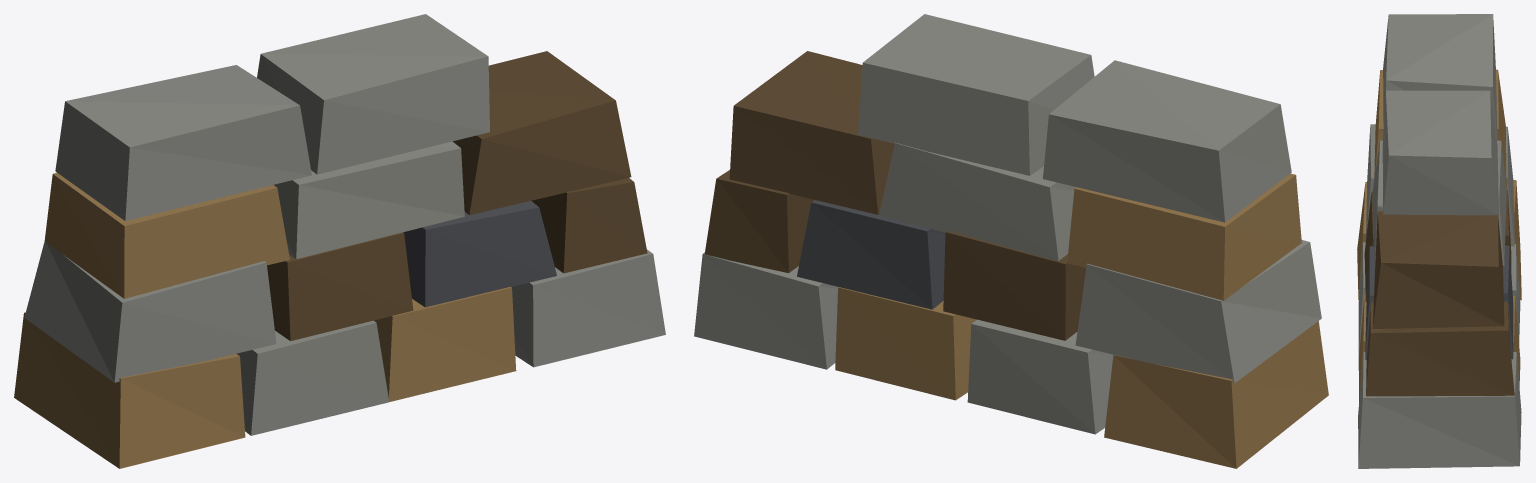
File: wall_drystone.glb
3 views of the same model, side by side, from view 1: azimuth 30°, elevation 25°; view 2: azimuth 150°, elevation 25°; view 3: azimuth 270°, elevation 25° (orthographic). The views are drawn at different scales.
Visible parts, largest first — view 1: wall_drystone; view 2: wall_drystone; view 3: wall_drystone.
Part boxes in pixels (x1,y1,x2,y2): wall_drystone: (14, 14, 665, 468); wall_drystone: (694, 14, 1328, 468); wall_drystone: (1357, 14, 1521, 468).
Bounding box in the file's own units: 2 × 1.05 × 0.6283.
